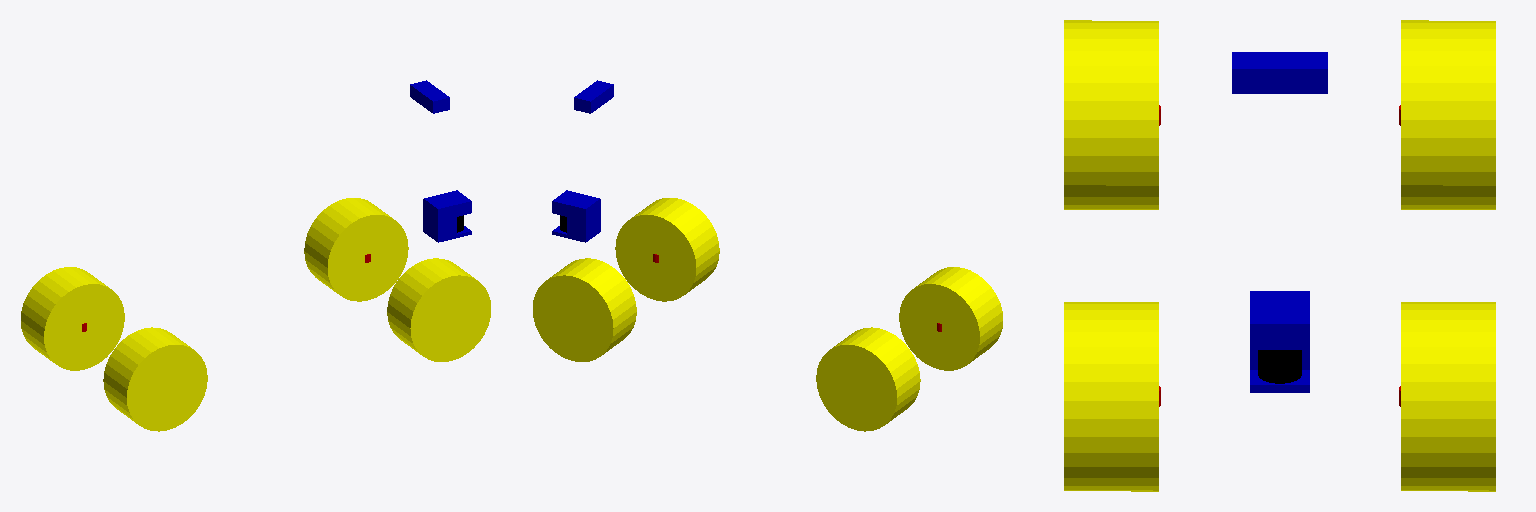
URDF robot description (car):
<?xml version="1.0" ?>

<robot
	name="car"
	xmlns:xi="http://www.w3.org/2001/XInclude"
	xmlns:gazebo="http://playerstage.sourceforge.net/gazebo/xmlschema/#gz"
	xmlns:model="http://playerstage.sourceforge.net/gazebo/xmlschema/#model"
	xmlns:sensor="http://playerstage.sourceforge.net/gazebo/xmlschema/#sensor"
	xmlns:body="http://playerstage.sourceforge.net/gazebo/xmlschema/#body"
	xmlns:geom="http://playerstage.sourceforge.net/gazebo/xmlschema/#geom"
	xmlns:joint="http://playerstage.sourceforge.net/gazebo/xmlschema/#joint"
	xmlns:interface="http://playerstage.sourceforge.net/gazebo/xmlschema/#interface"
	xmlns:rendering="http://playerstage.sourceforge.net/gazebo/xmlschema/#rendering"
	xmlns:renderable="http://playerstage.sourceforge.net/gazebo/xmlschema/#renderable"
	xmlns:controller="http://playerstage.sourceforge.net/gazebo/xmlschema/#controller"
	xmlns:physics="http://playerstage.sourceforge.net/gazebo/xmlschema/#physics">
	

		<!-- LINKs -->

	<link name="base_footprint">
		<!-- 
		<inertial>
			<mass value="0.0001" />
			<origin xyz="0 0 0" />
			<inertia
				ixx="0.0001"
				ixy="0.0"
				ixz="0.0"
				iyy="0.0001"
				iyz="0.0"
				izz="0.0001" />
		</inertial>
		<visual>
			<origin
				rpy="0 0 0"
				xyz="0 0 0" />
			<geometry>
				<box size="0.001 0.001 0.001" />
			</geometry>
			<material name="Green" />
		</visual>
		<collision>
			<origin
				rpy="0 0 0"
				xyz="0 0 0.0" />
			<geometry>
				<box size="0.001 0.001 0.001" />
			</geometry>
		</collision>
		 -->
	</link>

	<link name="base_link">
		<inertial>
			<mass value="0.001" />
			<origin xyz="0 0 0" />
			<inertia
				ixx="0.0001"
				ixy="0.0"
				ixz="0.0"
				iyy="0.0001"
				iyz="0.0"
				izz="0.0001" />
		</inertial>
		<!-- 
		<visual>
			<origin
				rpy="0 0 0"
				xyz="0 0 0" />
			<geometry>
				<box size="0.001 0.001 0.001" />
			</geometry>
			<material name="Green" />
		</visual>
		<collision>
			<origin
				rpy="0 0 0"
				xyz="0 0 0" />
			<geometry>
				<box size="0.001 0.001 0.001" />
			</geometry>
		</collision>
		 -->
	</link>

	<link name="front_left_wheel">
		<inertial>
			<mass value="5.0" />
			<origin xyz="0 0 0" />
			<inertia
				ixx="0.0027"
				ixy="0.0"
				ixz="0.0"
				iyy="0.0039"
				iyz="0.0"
				izz="0.0027" />
		</inertial>
		<visual>
			<origin
				xyz="0 -0.075 0"
				rpy="1.57 0 0 " />
			<geometry>
				<cylinder
					radius="0.24"
					length="0.24" />
			</geometry>
			<material name="Roda">
				<color rgba="1.0 1.0 0.0 1.0" />
			</material>
		</visual>
		<collision>
			<origin
				xyz="0 -0.075 0"
				rpy="1.57 0 0 " />
			<geometry>
				<cylinder
					radius="0.24"
					length="0.24" />
			</geometry>
		</collision>
	</link>

	<link name="front_right_wheel">
		<inertial>
			<mass value="5.0" />
			<origin xyz="0 0 0" />
			<inertia
				ixx="0.0027"
				ixy="0.0"
				ixz="0.0"
				iyy="0.0039"
				iyz="0.0"
				izz="0.0027" />
		</inertial>
		<visual>
			<origin
				xyz="0 0.075 0"
				rpy="1.57 0 0" />
			<geometry>
				<cylinder
					radius="0.24"
					length="0.24" />
			</geometry>
			<material name="Roda">
				<color rgba="1.0 1.0 0.0 1.0" />
			</material>
		</visual>
		<collision>
			<origin
				xyz="0 0.075 0"
				rpy="1.57 0 0" />
			<geometry>
				<cylinder
					radius="0.24"
					length="0.24" />
			</geometry>
		</collision>
	</link>

	<link name="back_left_wheel">
		<inertial>
			<mass value="5.0" />
			<origin xyz="0 0 0" />
			<inertia
				ixx="0.0027"
				ixy="0.0"
				ixz="0.0"
				iyy="0.0039"
				iyz="0.0"
				izz="0.0027" />
		</inertial>
		<visual>
			<origin
				xyz="0 -0.075 0"
				rpy="1.57 0 0 " />
			<geometry>
				<cylinder
					radius="0.24"
					length="0.24" />
			</geometry>
			<material name="Roda">
				<color rgba="1.0 1.0 0.0 1.0" />
			</material>
		</visual>
		<collision>
			<origin
				xyz="0 -0.075 0"
				rpy="1.57 0 0 " />
			<geometry>
				<cylinder
					radius="0.24"
					length="0.24" />
			</geometry>
		</collision>
	</link>

	<link name="back_right_wheel">
		<inertial>
			<mass value="5.0" />
			<origin xyz="0 0 0" />
			<inertia
				ixx="0.0027"
				ixy="0.0"
				ixz="0.0"
				iyy="0.0039"
				iyz="0.0"
				izz="0.0027" />
		</inertial>
		<visual>
			<origin
				xyz="0 0.075 0"
				rpy="1.57 0 0 " />
			<geometry>
				<cylinder
					radius="0.24"
					length="0.24" />
			</geometry>
			<material name="Roda">
				<color rgba="1.0 1.0 0.0 1.0" />
			</material>
		</visual>
		<collision>
			<origin
				xyz="0 0.075 0"
				rpy="1.57 0 0 " />
			<geometry>
				<cylinder
					radius="0.24"
					length="0.24" />
			</geometry>
		</collision>
	</link>

	<link name="back_left_wheel_dir">
		<inertial>
			<mass value="0.1" />
			<origin xyz="0 0 0" />
			<inertia
				ixx="0.01"
				ixy="0.0"
				ixz="0.0"
				iyy="0.01"
				iyz="0.0"
				izz="0.01" />
		</inertial>
		<visual>
			<origin
				xyz="0 0 0"
				rpy="0 0 0" />
			<geometry>
				<cylinder
					radius="0.03"
					length="0.045" />
			</geometry>
			<material name="Red">
				<color rgba="0.8 0.0 0.0 1.0" />
			</material>
		</visual>
		<collision>
			<origin
				xyz="0 0 0"
				rpy="0 0 0 " />
			<geometry>
				<cylinder
					radius="0.03"
					length="0.045" />
			</geometry>
		</collision>
	</link>

	<link name="back_right_wheel_dir">
		<inertial>
			<mass value="0.1" />
			<origin xyz="0 0 0" />
			<inertia
				ixx="0.01"
				ixy="0.0"
				ixz="0.0"
				iyy="0.01"
				iyz="0.0"
				izz="0.01" />
		</inertial>
		<visual>
			<cylinder
				radius="0.03"
				length="0.045" />
			<geometry>
				<cylinder
					radius="0.03"
					length="0.045" />
			</geometry>
			<material name="Red">
				<color rgba="0.8 0.0 0.0 1.0" />
			</material>
		</visual>
		<collision>
			<origin
				xyz="0 0 0"
				rpy="0 0 0 " />
			<geometry>
				<cylinder
					radius="0.03"
					length="0.045" />
			</geometry>
		</collision>
	</link>

	<link name="front_left_wheel_dir">
		<inertial>
			<mass value="0.1" />
			<origin xyz="0 0 0" />
			<inertia
				ixx="0.01"
				ixy="0.0"
				ixz="0.0"
				iyy="0.01"
				iyz="0.0"
				izz="0.01" />
		</inertial>
		<visual>
			<origin
				xyz="0 0 0"
				rpy="0 0 0" />
			<geometry>
				<cylinder
					radius="0.03"
					length="0.045" />
			</geometry>
			<material name="Red">
				<color rgba="0.8 0.0 0.0 1.0" />
			</material>
		</visual>
		<collision>
			<origin
				xyz="0 0 0"
				rpy="0 0 0 " />
			<geometry>
				<cylinder
					radius="0.03"
					length="0.045" />
			</geometry>
		</collision>
	</link>

	<link name="front_right_wheel_dir">
		<inertial>
			<mass value="0.1" />
			<origin xyz="0 0 0" />
			<inertia
				ixx="0.01"
				ixy="0.0"
				ixz="0.0"
				iyy="0.01"
				iyz="0.0"
				izz="0.01" />
		</inertial>
		<visual>
			<origin
				xyz="0 0 0"
				rpy="0 0 0" />
			<geometry>
				<cylinder
					radius="0.03"
					length="0.045" />
			</geometry>
			<material name="Red">
				<color rgba="0.8 0.0 0.0 1.0" />
			</material>
		</visual>
		<collision>
			<origin
				xyz="0 0 0"
				rpy="0 0 0 " />
			<geometry>
				<cylinder
					radius="0.03"
					length="0.045" />
			</geometry>
		</collision>
	</link>

	<link name="sick_parallel_laser_link">
		<inertial>
			<mass value="0.001" />
			<origin
				xyz="0 0 0"
				rpy="0 0 0" />
			<inertia
				ixx="0.0001"
				ixy="0"
				ixz="0"
				iyy="0.000001"
				iyz="0"
				izz="0.0001" />
		</inertial>
		<visual>
			<origin
				rpy="0 0 0"
				xyz="0.0 0 0" />
			<geometry>
				<cylinder
					length="0.12"
					radius="0.055" />
			</geometry>
			<material name="Black">
				<color rgba="0.0 0.0 0.0 1.0" />
			</material>
		</visual>
		<collision>
			<origin
				rpy="0 0 0"
				xyz="0.0 0 0" />
			<geometry>
				<cylinder
					length="0.0"
					radius="0.0" />
			</geometry>
		</collision>
	</link>

	<link name="sick_parallel_laser_box01_link">
		<inertial>
			<mass value="0.1" />
			<origin xyz="0 0 0.0" />
			<inertia
				ixx="0.1"
				ixy="0"
				ixz="0"
				iyy="0.1"
				iyz="0"
				izz="0.1" />
		</inertial>
		<visual>
			<origin
				rpy="0 0 0"
				xyz="0 0 0" />
			<geometry>
				<box size="0.11 0.15 0.11" />
			</geometry>
			<material name="Blue">
				<color rgba="0.0 0.0 0.8 1.0" />
			</material>
		</visual>
		<collision>
			<origin
				rpy="0 0 0"
				xyz="0 0 0" />
			<geometry>
				<box size="0.11 0.15 0.11" />
			</geometry>
		</collision>
	</link>

	<link name="sick_parallel_laser_box02_link">
		<inertial>
			<mass value="0.1" />
			<origin xyz="0 0 0.0" />
			<inertia
				ixx="0.1"
				ixy="0"
				ixz="0"
				iyy="0.1"
				iyz="0"
				izz="0.1" />
		</inertial>
		<visual>
			<origin
				rpy="0 0 0"
				xyz="0.045 0 0.09" />
			<geometry>
				<box size="0.2 0.15 0.07" />
			</geometry>
			<material name="Blue">
				<color rgba="0.0 0.0 0.8 1.0" />
			</material>
		</visual>
		<collision>
			<origin
				rpy="0 0 0"
				xyz="0.045 0 0.09" />
			<geometry>
				<box size="0.2 0.15 0.07" />
			</geometry>
		</collision>
	</link>

	<link name="sick_parallel_laser_box03_link">
		<inertial>
			<mass value="0.1" />
			<origin xyz="0 0 0.0" />
			<inertia
				ixx="0.1"
				ixy="0"
				ixz="0"
				iyy="0.1"
				iyz="0"
				izz="0.1" />
		</inertial>
		<visual>
			<origin
				rpy="0 0 0"
				xyz="0.045 0 -0.055" />
			<geometry>
				<box size="0.2 0.15 0.02" />
			</geometry>
			<material name="Blue">
				<color rgba="0.0 0.0 0.8 1.0" />
			</material>
		</visual>
		<collision>
			<origin
				rpy="0 0 0"
				xyz="0.045 0 -0.055" />
			<geometry>
				<box size="0.2 0.15 0.02" />
			</geometry>
		</collision>
	</link>

	<link name="camera_base_link">
		<inertial>
			<mass value="0.1" />
			<origin xyz="0 0 0.0" />
			<inertia
				ixx="0.1"
				ixy="0"
				ixz="0"
				iyy="0.1"
				iyz="0"
				izz="0.1" />
		</inertial>
		<visual>
			<origin
				rpy="0 0 0"
				xyz="0 0 0" />
			<geometry>
				<box size="0.10 0.24 0.07" />
			</geometry>
			<material name="Blue">
				<color rgba="0.0 0.0 0.8 1.0" />
			</material>
		</visual>
		<collision>
			<origin
				rpy="0 0 0"
				xyz="0 0 0" />
			<geometry>
				<box size="0.10 0.24 0.07" />
			</geometry>
		</collision>
	</link>

	<link name="camera_optical_link">

		<inertial>
			<mass value="0.01" />
			<origin
				xyz="0 0 0"
				rpy="0 0 0" />
			<inertia
				ixx="0.001"
				ixy="0.0"
				ixz="0.0"
				iyy="0.001"
				iyz="0.0"
				izz="0.001" />
		</inertial>
	</link>

	<link name="imu_link">
		<inertial>
			<mass value="0.001" />
			<origin
				rpy="0 0 0"
				xyz="0 0 0" />
			<inertia
				ixx="0.0001"
				ixy="0"
				ixz="0"
				iyy="0.000001"
				iyz="0"
				izz="0.0001" />
		</inertial>
		<!--
		<visual>
			<origin
				rpy="0 0 0"
				xyz="0 0 0" />
			<geometry>
				<box size="0.001 0.001 0.001" />
			</geometry>
		</visual>
		<collision>
			<origin
				rpy="0 0 0"
				xyz="0 0 0" />
			<geometry>
				<box size=".001 .001 .001" />
			</geometry>
		</collision>
		-->
	</link>

	<!-- JOINTs -->

	<joint
		name="base_footprint_joint"
		type="fixed"
	>
		<origin
			rpy="0 0 0"
			xyz="0 0 0.745" />
		<parent link="base_footprint" />
		<child link="base_link" />
	</joint>

	<joint
		name="joint_back_left_wheel_dir"
		type="fixed"
	>
		<parent link="base_link" />
		<child link="back_left_wheel_dir" />
		<origin
			xyz="-0.67 0.33 -0.5"
			rpy="0 0 0" />
	</joint>

	<joint
		name="joint_back_right_wheel_dir"
		type="fixed"
	>
		<parent link="base_link" />
		<child link="back_right_wheel_dir" />
		<origin
			xyz="-0.67 -0.33 -0.5"
			rpy="0 0 0" />
	</joint>

	<joint
		name="sick_parallel_laser_joint"
		type="fixed"
	>
		<axis xyz="0 1 0" />
		<origin
			rpy="0 0 0"
			xyz="1.34 0 -0.24" />
		<parent link="base_link" />
		<child link="sick_parallel_laser_link" />
	</joint>

	<joint
		name="sick_parallel_laser_box_joint"
		type="fixed"
	>
		<origin
			rpy="0 0 0"
			xyz="-0.08 0 0" />
		<parent link="sick_parallel_laser_link" />
		<child link="sick_parallel_laser_box01_link" />
	</joint>

	<joint
		name="spl_box01_box02_joint"
		type="fixed"
	>
		<origin
			rpy="0 0 0"
			xyz="0 0 0" />
		<parent link="sick_parallel_laser_box01_link" />
		<child link="sick_parallel_laser_box02_link" />
	</joint>

	<joint
		name="spl_box01_box03_joint"
		type="fixed"
	>
		<origin
			rpy="0 0 0"
			xyz="0 0 0" />
		<parent link="sick_parallel_laser_box01_link" />
		<child link="sick_parallel_laser_box03_link" />
	</joint>

	<joint
		name="camera_base_mount_joint"
		type="fixed"
	>
		<origin
			rpy="0 0 0"
			xyz="1.2 0 0.49" />
		<parent link="base_link" />
		<child link="camera_base_link" />
	</joint>

	<joint
		name="camera_optical_frame_joint"
		type="fixed"
	>
		<origin
			xyz="0.0 0.0 0.1"
			rpy="0.0 0.0 0.0" />
		<parent link="camera_base_link" />
		<child link="camera_optical_link" />
	</joint>

	<joint
		name="imu_joint"
		type="fixed"
	>
		<axis xyz="1 0 0" /> <!-- 0 1 0 -->
		<origin xyz="-0.67 0 0.3" />
		<parent link="base_link" />
		<child link="imu_link" />
	</joint>

	<joint
		name="joint_front_left_wheel_dir"
		type="revolute"
	>
		<parent link="base_link" />
		<child link="front_left_wheel_dir" />
		<origin
			xyz="1.01 0.33 -0.5"
			rpy="0 0 0" />
		<axis
			xyz="0 0 1"
			rpy="0 0 0" />
		<limit
			effort="3.0"
			velocity="3.0"
			lower="-0.7853"
			upper="0.7853" /> <!-- +-45o -->
	</joint>

	<joint
		name="joint_front_right_wheel_dir"
		type="revolute"
	>
		<parent link="base_link" />
		<child link="front_right_wheel_dir" />
		<origin
			xyz="1.01 -0.33 -0.5"
			rpy="0 0 0" />
		<axis xyz="0 0 1" />
		<limit
			effort="3.0"
			velocity="3.0"
			lower="-0.7853"
			upper="0.7853" />
	</joint>

	<joint
		name="joint_back_left_wheel"
		type="continuous"
	>
		<parent link="back_left_wheel_dir" />
		<child link="back_left_wheel" />
		<origin
			xyz="0.0 0.17 0"
			rpy="0 0 0" />
		<axis
			xyz="0 1 0"
			rpy="0 0 0" />
		<limit
			effort="100"
			velocity="100" />
		<joint_properties
			damping="0.0"
			friction="0.0" />
	</joint>

	<joint
		name="joint_back_right_wheel"
		type="continuous"
	>
		<parent link="back_right_wheel_dir" />
		<child link="back_right_wheel" />
		<origin
			xyz="0.0 -0.17 0"
			rpy="0 0 0" />
		<axis
			xyz="0 1 0"
			rpy="0 0 0" />
		<limit
			effort="100"
			velocity="100" />
		<joint_properties
			damping="0.0"
			friction="0.0" />
	</joint>

	<joint
		name="joint_front_left_wheel"
		type="continuous"
	>
		<parent link="front_left_wheel_dir" />
		<child link="front_left_wheel" />
		<origin
			xyz="0.0 0.17 0.0"
			rpy="0 0 0" />
		<axis xyz="0 1 0" />
		<limit
			effort="100"
			velocity="100" />
		<joint_properties
			damping="0.0"
			friction="0.0" />
	</joint>

	<joint
		name="joint_front_right_wheel"
		type="continuous"
	>
		<parent link="front_right_wheel_dir" />
		<child link="front_right_wheel" />
		<origin
			xyz="0.0 -0.17 0.0"
			rpy="0 0 0" />
		<axis xyz="0 1 0" />
		<limit
			effort="100"
			velocity="100" />
		<joint_properties
			damping="0.0"
			friction="0.0" />
	</joint>
	
	<!-- Transmissions -->
	
	<transmission
		name="joint_flw_trans"
		type="pr2_mechanism_model/SimpleTransmission"
	>
		<actuator name="joint_flw_motor" />
		<joint name="joint_front_left_wheel" />
		<mechanicalReduction>1</mechanicalReduction>
		<motorTorqueConstant>1</motorTorqueConstant>
	</transmission>
	
	<transmission
		name="joint_frw_trans"
		type="pr2_mechanism_model/SimpleTransmission"
	>
		<actuator name="joint_frw_motor" />
		<joint name="joint_front_right_wheel" />
		<mechanicalReduction>1</mechanicalReduction>
		<motorTorqueConstant>1</motorTorqueConstant>
	</transmission>
	
	<transmission
		name="joint_blw_trans"
		type="pr2_mechanism_model/SimpleTransmission"
	>
		<actuator name="joint_blw_motor" />
		<joint name="joint_back_left_wheel" />
		<mechanicalReduction>1</mechanicalReduction>
		<motorTorqueConstant>1</motorTorqueConstant>
	</transmission>

	<transmission
		name="joint_brw_trans"
		type="pr2_mechanism_model/SimpleTransmission"
	>
		<actuator name="joint_brw_motor" />
		<joint name="joint_back_right_wheel" />
		<mechanicalReduction>1</mechanicalReduction>
		<motorTorqueConstant>1</motorTorqueConstant>
	</transmission>

	<transmission
		name="joint_flw_trans_dir"
		type="pr2_mechanism_model/SimpleTransmission"
	>
		<actuator name="joint_flw_motor_dir" />
		<joint name="joint_front_left_wheel_dir" />
		<mechanicalReduction>1</mechanicalReduction>
		<motorTorqueConstant>1</motorTorqueConstant>
	</transmission>

	<transmission
		name="joint_frw_trans_dir"
		type="pr2_mechanism_model/SimpleTransmission"
	>
		<actuator name="joint_frw_motor_dir" />
		<joint name="joint_front_right_wheel_dir" />
		<mechanicalReduction>1</mechanicalReduction>
		<motorTorqueConstant>1</motorTorqueConstant>
	</transmission>
	
	<!-- GAZEBO -->

	<gazebo reference="camera_base01_link">
		<material>Gazebo/Whith</material>
		<turnGravityOff>false</turnGravityOff>
	</gazebo>
	
	<gazebo reference="sick_parallel_laser_box01_link">
		<material>Gazebo/Blue</material>
		<turnGravityOff>false</turnGravityOff>
	</gazebo>
	<gazebo reference="sick_parallel_laser_box02_link">
		<material>Gazebo/Blue</material>
		<turnGravityOff>false</turnGravityOff>
	</gazebo>
	<gazebo reference="sick_parallel_laser_box03_link">
		<material>Gazebo/Blue</material>
		<turnGravityOff>false</turnGravityOff>
	</gazebo>
	
	<gazebo reference="back_left_wheel_dir">
		<material>Gazebo/Red</material>
		<turnGravityOff>false</turnGravityOff>
	</gazebo>
	<gazebo reference="back_right_wheel_dir">
		<material>Gazebo/Red</material>
		<turnGravityOff>false</turnGravityOff>
	</gazebo>
	<gazebo reference="front_left_wheel_dir">
		<material>Gazebo/Red</material>
		<turnGravityOff>false</turnGravityOff>
	</gazebo>
	<gazebo reference="front_right_wheel_dir">
		<material>Gazebo/Red</material>
		<turnGravityOff>false</turnGravityOff>
	</gazebo>
	 
	 
	<!-- wheel -->
	<gazebo reference="front_left_wheel">
		<mu1 value="50.0" />
		<mu2 value="0.5" />
		<fdir1 value="1 0 0" />
		<material>Gazebo/Grey</material>
		<turnGravityOff>false</turnGravityOff>
	</gazebo>
	<gazebo reference="back_left_wheel">
		<mu1 value="50.0" />
		<mu2 value="0.5" />
		<fdir1 value="1 0 0" />
		<material>Gazebo/Grey</material>
		<turnGravityOff>false</turnGravityOff>
	</gazebo>
	<gazebo reference="back_right_wheel">
		<mu1 value="50.0" />
		<mu2 value="0.5" />
		<fdir1 value="1 0 0" />
		<material>Gazebo/Grey</material>
		<turnGravityOff>false</turnGravityOff>
	</gazebo>
	<gazebo reference="front_right_wheel">
		<mu1 value="50.0" />
		<mu2 value="0.5" />
		<fdir1 value="1 0 0" />
		<material>Gazebo/Grey</material>
		<turnGravityOff>false</turnGravityOff>
	</gazebo>

<!-- RoBombeiros -->
	<gazebo reference="sick_parallel_laser_link">
		<material>Gazebo/Black</material>
		<turnGravityOff>false</turnGravityOff>
		<sensor:ray name="sick_parallel_laser">
			<rayCount>21</rayCount>
			<rangeCount>21</rangeCount>
			<laserCount>1</laserCount>
			<origin>0.0 0.0 0.0</origin>
			<displayRays>lines</displayRays>
			<minAngle>-90.0</minAngle>
			<maxAngle>90.0</maxAngle>
			<minRange>0.05</minRange>
			<maxRange>30.1</maxRange>
			<resRange>0.001</resRange>
			<updateRate>10.0</updateRate>
			<controller:gazebo_ros_laser
				name="gazebo_ros_sick_laser_controller"
				plugin="libgazebo_ros_laser.so"
			>
				<hokuyoMinIntensity>100</hokuyoMinIntensity>
				<gaussianNoise>0.005</gaussianNoise>
				<alwaysOn>true</alwaysOn>
				<updateRate>10.0</updateRate>
				<topicName>base_scan</topicName>
				<frameName>laser_link</frameName>
				<interface:laser name="gazebo_ros_sick_laser_iface" />
			</controller:gazebo_ros_laser>
		</sensor:ray>
	</gazebo>

	<gazebo reference="camera_base_link">
		<material>Gazebo/Red</material>
		<turnGravityOff>false</turnGravityOff>
		<sensor:camera name="camera_sensor">
			<imageSize>640 480</imageSize>
			<imageFormat>R8G8B8</imageFormat>
			<hfov>90</hfov>
			<nearClip>0.1</nearClip>
			<farClip>100</farClip>
			<updateRate>15.0</updateRate>
			<controller:gazebo_ros_camera
				name="camera_base_link_controller"
				plugin="libgazebo_ros_prosilica.so"
			>
				<alwaysOn>true</alwaysOn>
				<updateRate>30.0</updateRate>
				<cameraName>camera</cameraName>
				<imageTopicName>image_raw</imageTopicName>
				<cameraInfoTopicName>camera_info</cameraInfoTopicName>
				<pollServiceName>request_image</pollServiceName>
				<frameName>camera_optical_link</frameName>
				<CxPrime>320</CxPrime>
				<Cx>320</Cx>
				<Cy>240</Cy>
				<hackBaseline>0</hackBaseline>
				<focalLength>320</focalLength>
				<distortionK1>0</distortionK1>
				<distortionK2>0</distortionK2>
				<distortionK3>0</distortionK3>
				<distortionT1>0</distortionT1>
				<distortionT2>0</distortionT2>
			</controller:gazebo_ros_camera>
		</sensor:camera>
	</gazebo>

	<gazebo>
			
		<controller:gazebo_ros_controller_manager
			name="gazebo_ros_controller_manager"
			plugin="libgazebo_ros_controller_manager.so"
		>
			<alwaysOn>true</alwaysOn>
			<updateRate>1000.0</updateRate>
			<interface:audio name="gazebo_ros_controller_manager_dummy_iface" />
		</controller:gazebo_ros_controller_manager>	
		
		
		<controller:gazebo_ros_imu
			name="imu_controller"
			plugin="libgazebo_ros_imu.so"
		>
			<alwaysOn>true</alwaysOn>
			<updateRate>50.0</updateRate> <!-- 100 -->
			<bodyName>imu_link</bodyName>
			<topicName>imu_data</topicName>
			<serviceName>imu_service</serviceName>
			<gaussianNoise>2.89e-08</gaussianNoise>
			<interface:position name="imu_link_position" />
		</controller:gazebo_ros_imu>

		<controller:gazebo_ros_p3d
			name="p3d_base_controller"
			plugin="libgazebo_ros_p3d.so"
		>
			<alwaysOn>true</alwaysOn>
			<updateRate>10.0</updateRate>
			<bodyName>base_footprint</bodyName>
			<topicName>odom_gazebo</topicName>
			<gaussianNoise>0.01</gaussianNoise>
			<frameName>odom_gazebo</frameName>
			<xyzOffset>0 0 0</xyzOffset>
			<rpyOffset>0 0 0</rpyOffset>
			<interface:position name="base_footprint_position" />
		</controller:gazebo_ros_p3d>
	</gazebo>


</robot>

--- What the picture shows (computed from the rendered views, not written in the file) ---
Views: 3 orthographic renders of the robot side by side, from view 1: azimuth 30°, elevation 25°; view 2: azimuth 150°, elevation 25°; view 3: azimuth 270°, elevation 25°.
Robot: car — 17 links, 16 joints (2 revolute, 4 continuous, 10 fixed); root link base_footprint; default pose: all joints at 0.
Links seen in each view (by area): view 1: back_right_wheel, front_right_wheel, back_left_wheel, front_left_wheel, sick_parallel_laser_box02_link, camera_base_link, sick_parallel_laser_box01_link; view 2: back_left_wheel, front_left_wheel, back_right_wheel, front_right_wheel, sick_parallel_laser_box02_link, camera_base_link, sick_parallel_laser_box01_link; view 3: front_left_wheel, front_right_wheel, back_left_wheel, back_right_wheel, camera_base_link, sick_parallel_laser_box02_link, sick_parallel_laser_link, sick_parallel_laser_box03_link.
Link boxes in pixels (x1=…): back_right_wheel: x1=103, y1=327, x2=207, y2=431; front_right_wheel: x1=387, y1=258, x2=490, y2=361; back_left_wheel: x1=21, y1=267, x2=124, y2=370; front_left_wheel: x1=304, y1=198, x2=408, y2=301; sick_parallel_laser_box02_link: x1=423, y1=190, x2=471, y2=221; camera_base_link: x1=410, y1=80, x2=449, y2=113; sick_parallel_laser_box01_link: x1=423, y1=211, x2=456, y2=240; back_left_wheel: x1=816, y1=327, x2=920, y2=431; front_left_wheel: x1=533, y1=258, x2=636, y2=361; back_right_wheel: x1=899, y1=267, x2=1002, y2=370; front_right_wheel: x1=615, y1=198, x2=719, y2=301; sick_parallel_laser_box02_link: x1=552, y1=190, x2=600, y2=221; camera_base_link: x1=574, y1=80, x2=613, y2=113; sick_parallel_laser_box01_link: x1=567, y1=211, x2=600, y2=240; front_left_wheel: x1=1401, y1=302, x2=1495, y2=491; front_right_wheel: x1=1064, y1=302, x2=1158, y2=491; back_left_wheel: x1=1401, y1=20, x2=1495, y2=209; back_right_wheel: x1=1064, y1=20, x2=1158, y2=209; camera_base_link: x1=1232, y1=52, x2=1327, y2=93; sick_parallel_laser_box02_link: x1=1250, y1=291, x2=1309, y2=349; sick_parallel_laser_link: x1=1258, y1=350, x2=1301, y2=383; sick_parallel_laser_box03_link: x1=1250, y1=370, x2=1309, y2=392.
Bounding box of the posed robot: 2.31 × 1.09 × 1.27 m (x, y, z).
Geometry: primitives only (box / cylinder / sphere), no mesh files.
